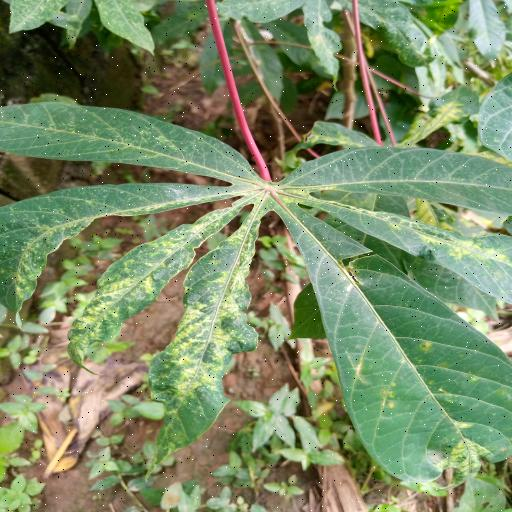Cassava_Mosaic: (3, 95, 512, 500)
